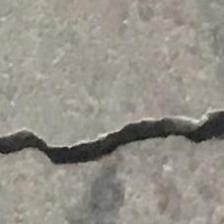Crack: (0, 101, 224, 197)
